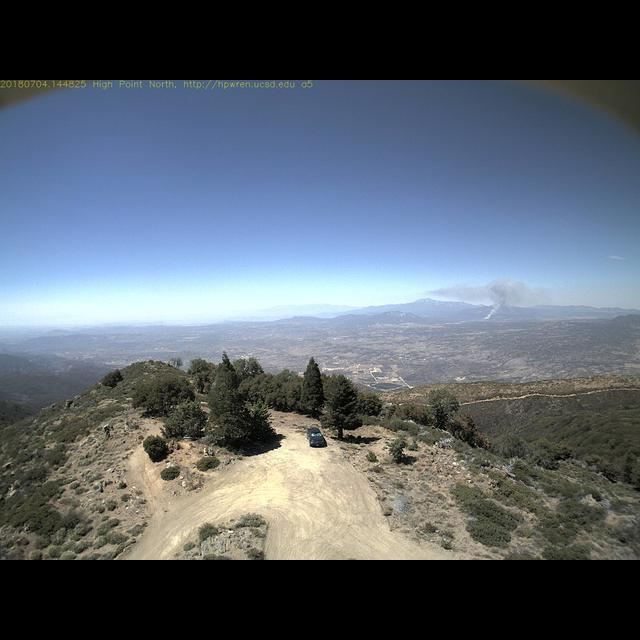Smoke: (426, 278, 550, 319)
